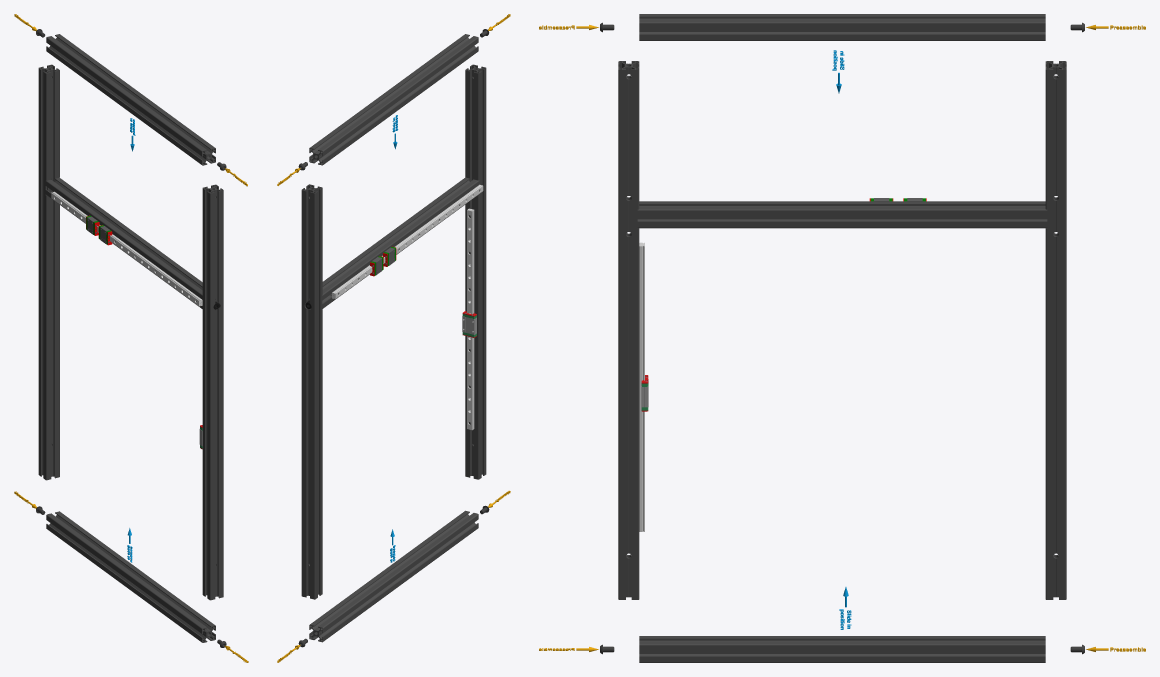
3 views of the same model, side by side, from view 1: azimuth 30°, elevation 25°; view 2: azimuth 150°, elevation 25°; view 3: azimuth 270°, elevation 25° (orthographic). The views are drawn at different scales.
Parts seen in each view (by area): view 1: 01_01__XP__Alu_3030_Pillar___V2.0 v24, 01_01__XP__Alu_3030_Pillar___V2.0 v025, 01_03__XP__Alu_3030_Beam_2___V1.0 v7, 01_03__XP__Alu_3030_Beam_2___V1.0 v008, 01_02__XP__Alu_3030_Beam_1___V1.0 v14, MGNR12R550HM_FILE_2 v3; view 2: 01_01__XP__Alu_3030_Pillar___V2.0 v025, 01_01__XP__Alu_3030_Pillar___V2.0 v24, 01_03__XP__Alu_3030_Beam_2___V1.0 v7, 01_03__XP__Alu_3030_Beam_2___V1.0 v008, 01_02__XP__Alu_3030_Beam_1___V1.0 v14, MGNR12R450HM_FILE_2 v1, MGNR12R550HM_FILE_2 v3; view 3: 01_01__XP__Alu_3030_Pillar___V2.0 v24, 01_01__XP__Alu_3030_Pillar___V2.0 v025, 01_02__XP__Alu_3030_Beam_1___V1.0 v14, 01_03__XP__Alu_3030_Beam_2___V1.0 v7, 01_03__XP__Alu_3030_Beam_2___V1.0 v008, MGNR12R450HM_FILE_2 v1.
Boxes of the visible parts, box(x1,y1,x2,y2) form: 01_01__XP__Alu_3030_Pillar___V2.0 v24: box(202, 184, 223, 600); 01_01__XP__Alu_3030_Pillar___V2.0 v025: box(38, 64, 59, 480); 01_03__XP__Alu_3030_Beam_2___V1.0 v7: box(46, 34, 215, 165); 01_03__XP__Alu_3030_Beam_2___V1.0 v008: box(46, 511, 215, 642); 01_02__XP__Alu_3030_Beam_1___V1.0 v14: box(45, 177, 202, 308); MGNR12R550HM_FILE_2 v3: box(51, 191, 202, 306); 01_01__XP__Alu_3030_Pillar___V2.0 v025: box(301, 184, 322, 599); 01_01__XP__Alu_3030_Pillar___V2.0 v24: box(465, 64, 486, 479); 01_03__XP__Alu_3030_Beam_2___V1.0 v7: box(309, 34, 478, 165); 01_03__XP__Alu_3030_Beam_2___V1.0 v008: box(309, 510, 478, 642); 01_02__XP__Alu_3030_Beam_1___V1.0 v14: box(322, 177, 479, 308); MGNR12R450HM_FILE_2 v1: box(467, 208, 474, 430); MGNR12R550HM_FILE_2 v3: box(332, 184, 483, 299); 01_01__XP__Alu_3030_Pillar___V2.0 v24: box(618, 61, 639, 599); 01_01__XP__Alu_3030_Pillar___V2.0 v025: box(1045, 61, 1066, 599); 01_02__XP__Alu_3030_Beam_1___V1.0 v14: box(637, 201, 1047, 228); 01_03__XP__Alu_3030_Beam_2___V1.0 v7: box(639, 14, 1045, 40); 01_03__XP__Alu_3030_Beam_2___V1.0 v008: box(639, 636, 1045, 662); MGNR12R450HM_FILE_2 v1: box(639, 242, 644, 531).
Size of the model in its own units: 0.043 by 1.01 by 0.8668.
